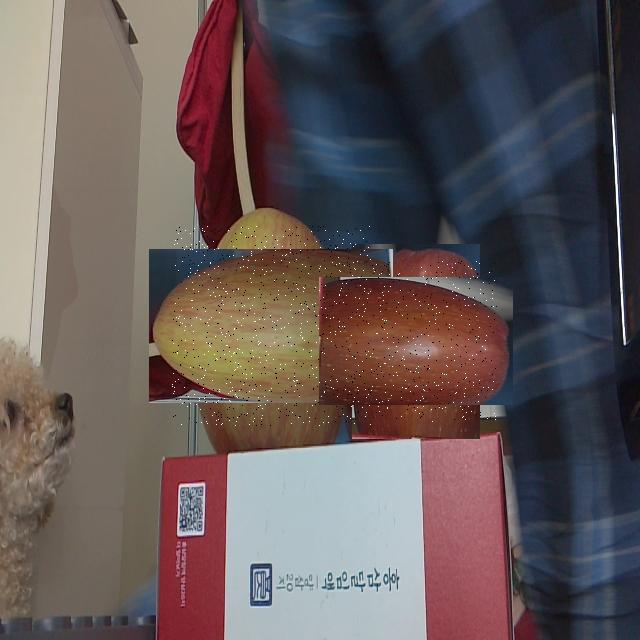apple: (172, 226, 371, 426), (335, 261, 497, 422)
